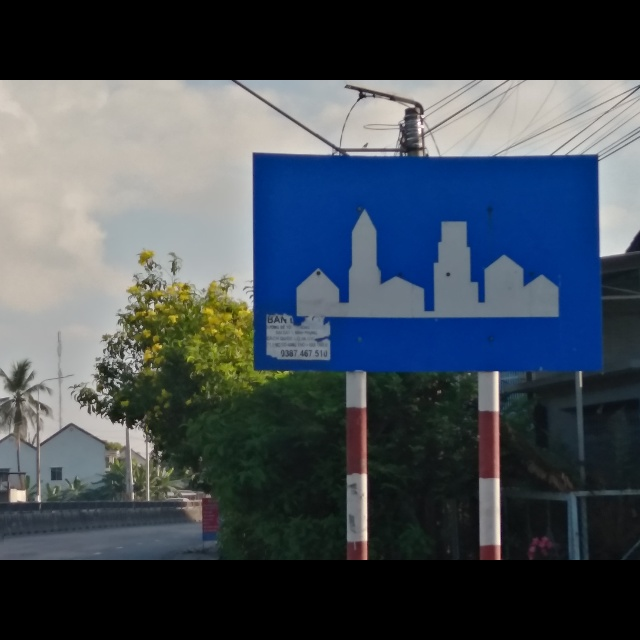Khu đông dân cư: (249, 156, 600, 377)
